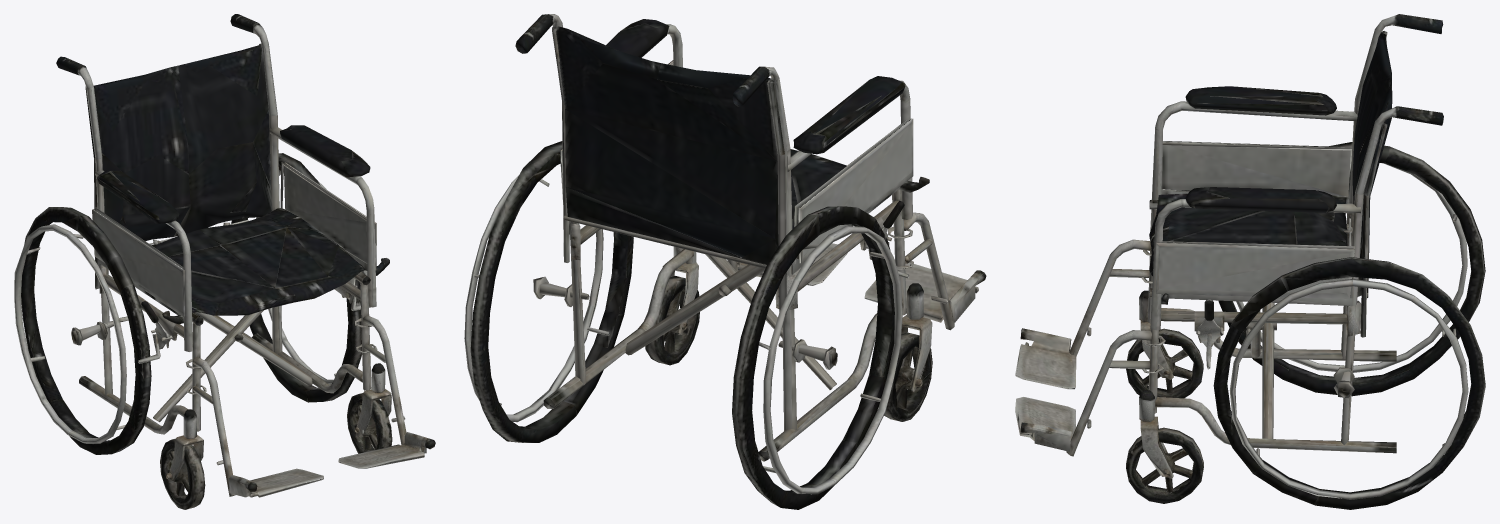
File: prop_wheelchair.glb
The picture shows the model from 3 angles, left to right: view 1: azimuth 30°, elevation 25°; view 2: azimuth 150°, elevation 25°; view 3: azimuth 270°, elevation 25°; orthographic projection. The views are drawn at different scales.
Bounding box in the file's own units: 0.626 × 0.877 × 0.9551.
1 material, 1 textured.
